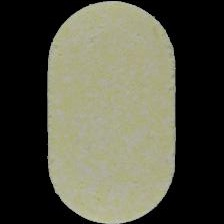55111-262: (0, 0, 224, 224)
